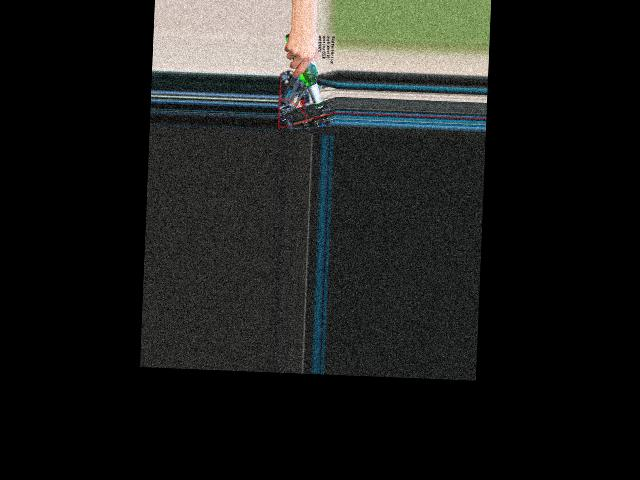beer: (282, 33, 325, 110)
